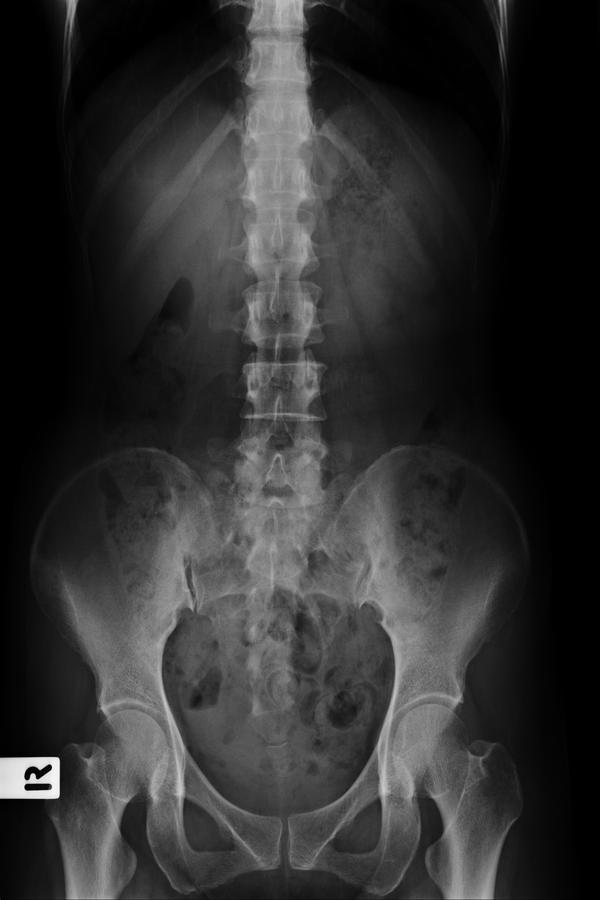not lumbar scoliosis: (236, 159, 324, 528)
